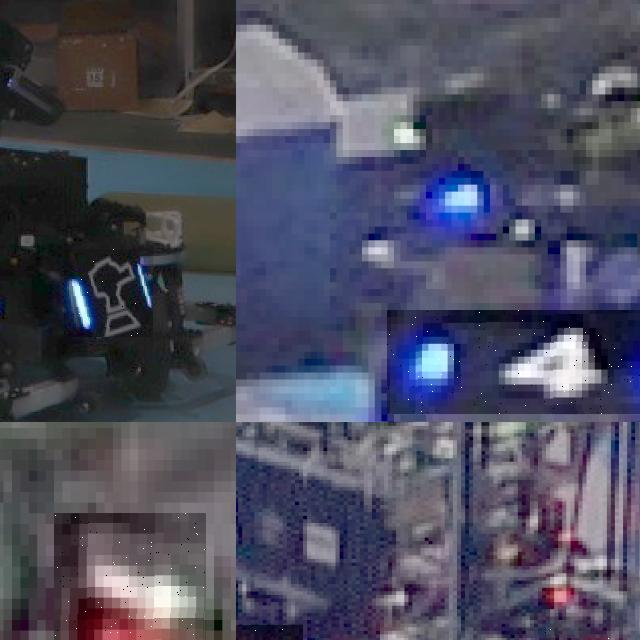B4: (387, 309, 640, 414)
Bs: (64, 250, 153, 338)
R4: (54, 513, 205, 640)
